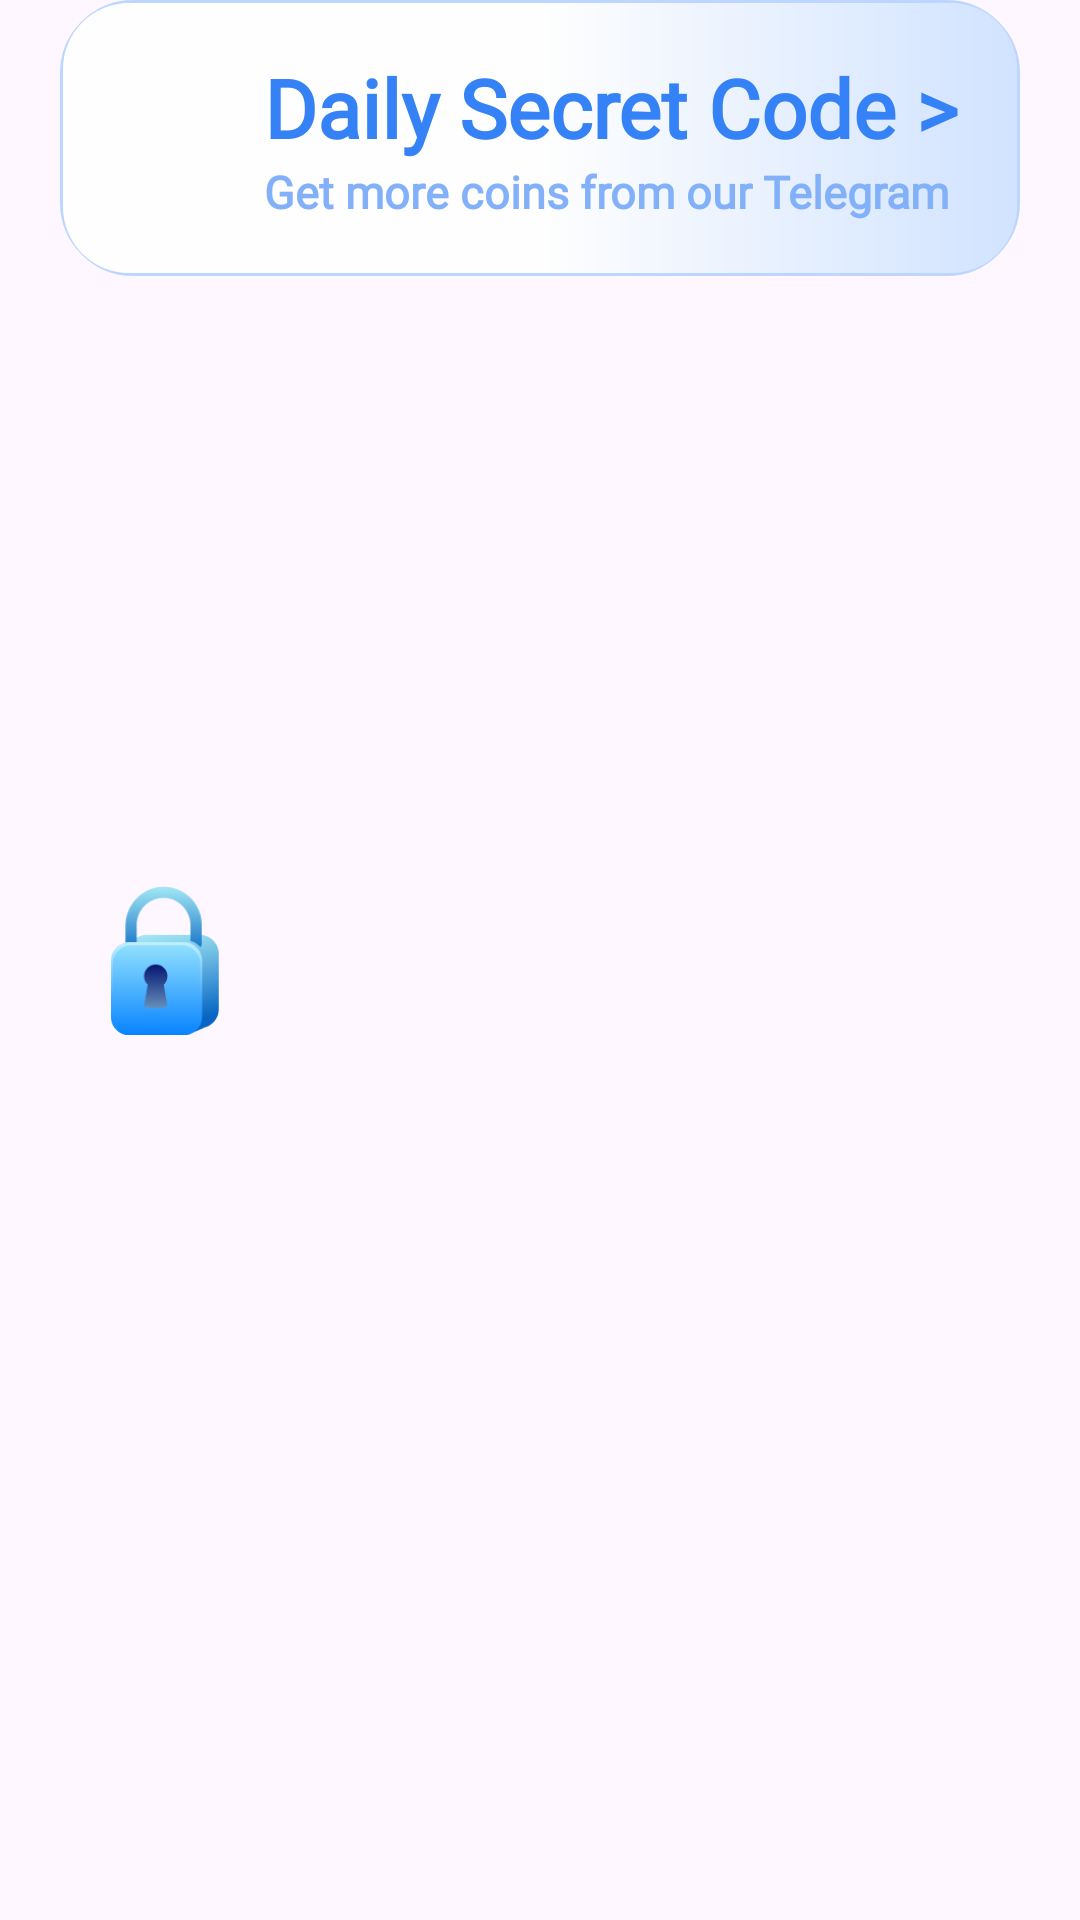

Screen size 1080px×1920px. Icon name, then its box in pixels as {"x1": x1, "y1": y1, "x2": x2, "y2": y2}:
lock: {"x1": 111, "y1": 887, "x2": 219, "y2": 1035}
